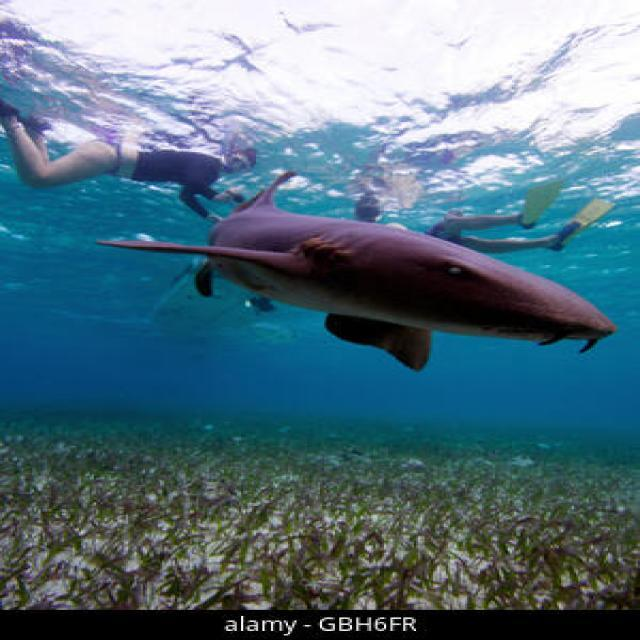Shark: (62, 113, 640, 381)
